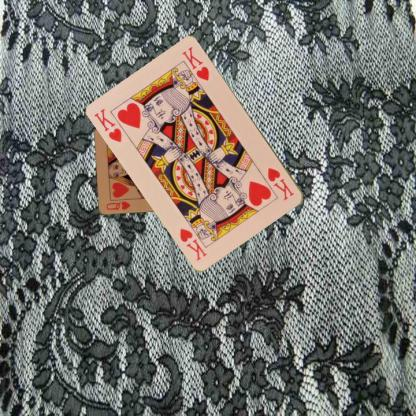Kh: (91, 106, 124, 144), (265, 164, 296, 202)
Qh: (103, 198, 132, 211)
